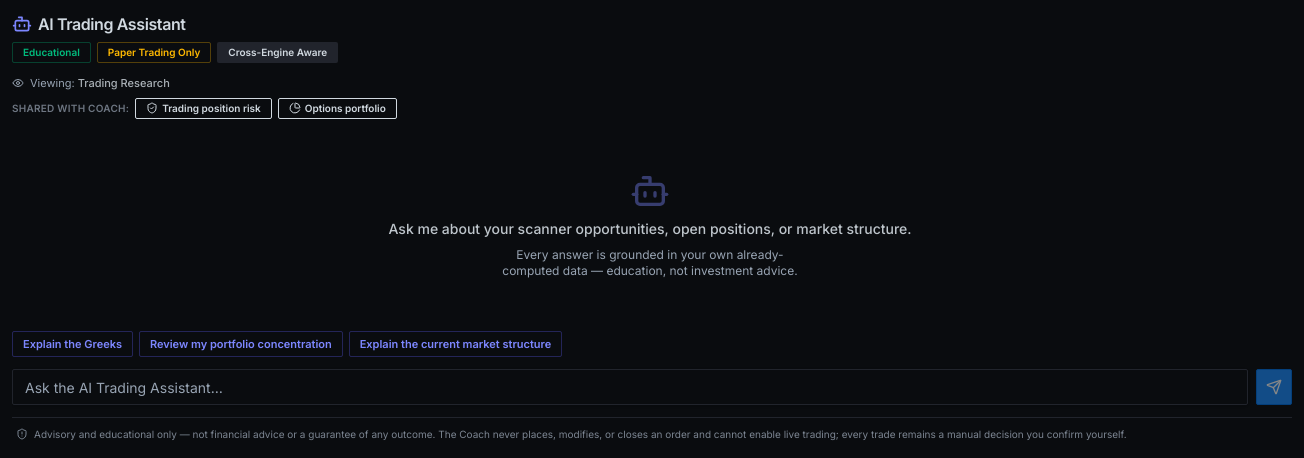
TradingCoachWorkspace — streaming, loading, error/retry, and stop › shows a thinking indicator before the first delta arrives
The width and height of the screenshot is (1304, 458).
In the field with test id "input-trading-coach-composer": point(630, 387) left=12, top=369, right=1248, bottom=405, type "Review my portfolio"
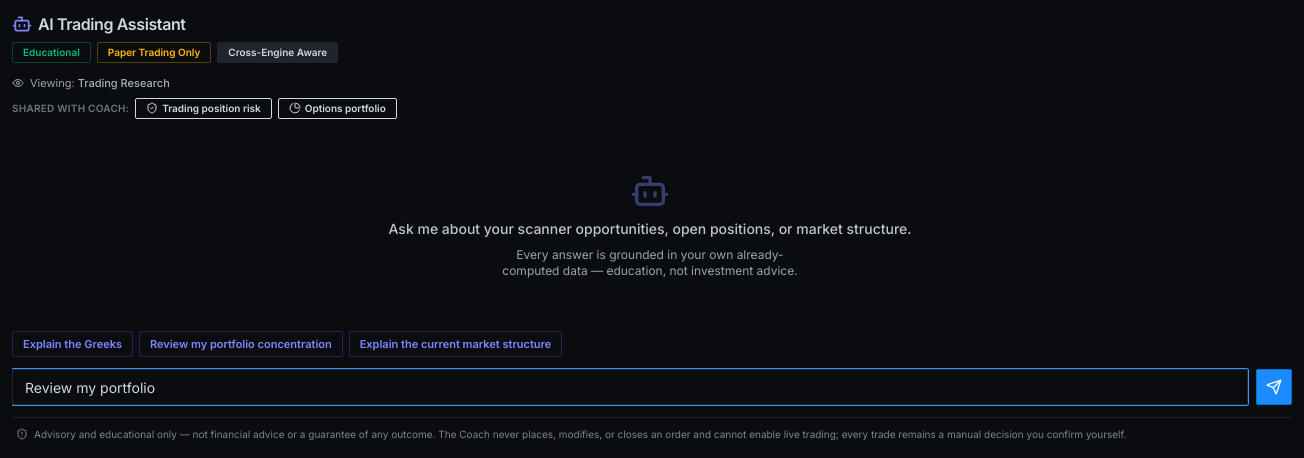
Click the button with test id "button-trading-coach-send": point(1274, 387) left=1256, top=369, right=1292, bottom=405
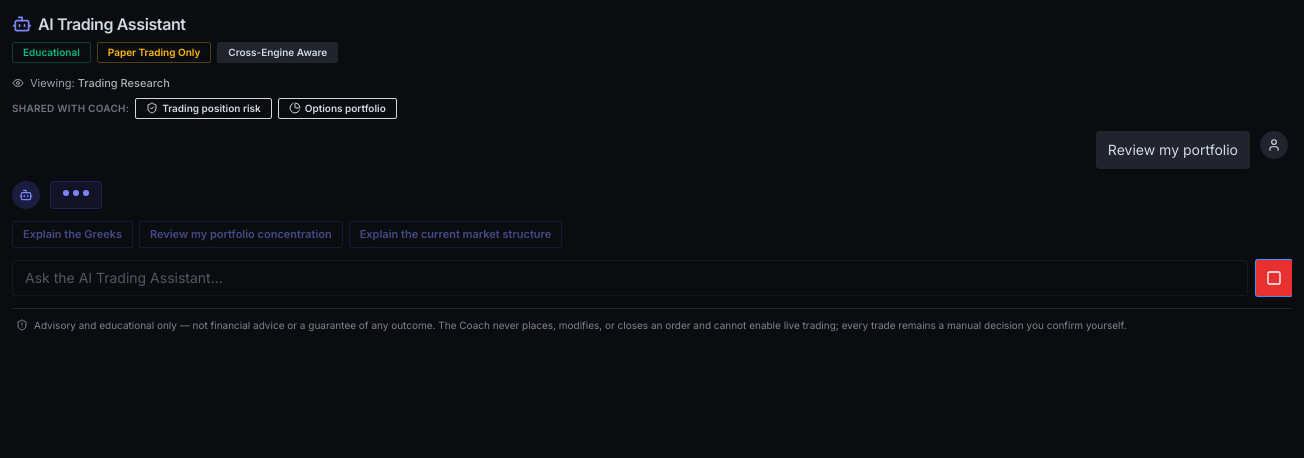
Now the element with test id "trading-coach-thinking" is shown, box left=63, top=190, right=89, bottom=196
